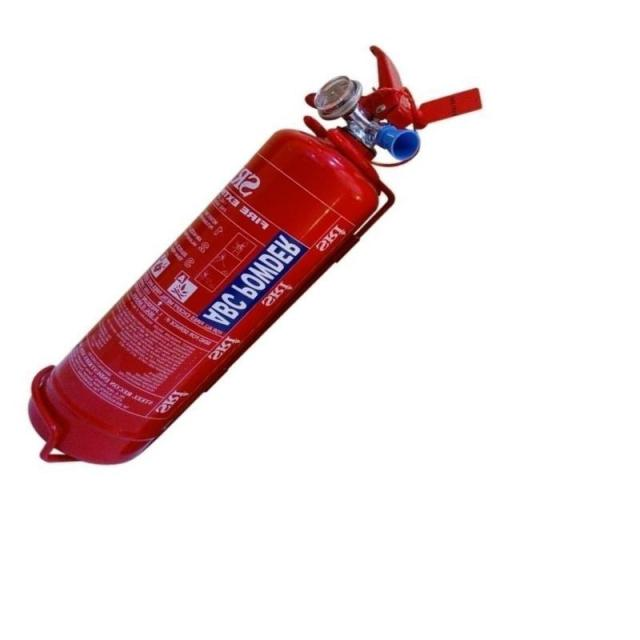fire_extinguisher: (22, 42, 484, 470)
